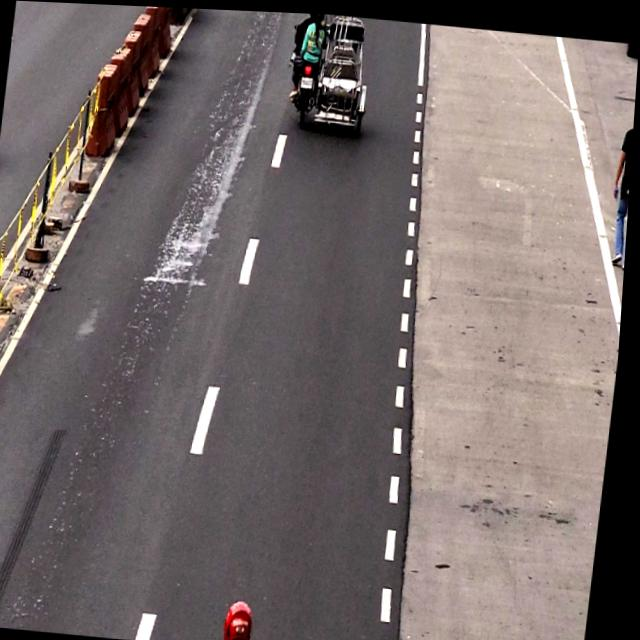Tricycle: (287, 10, 367, 129)
